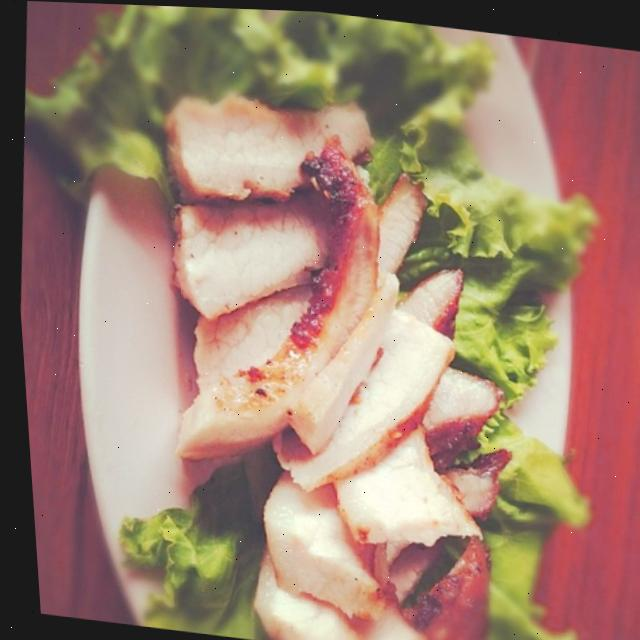猪肉菜式: (28, 18, 640, 640)
